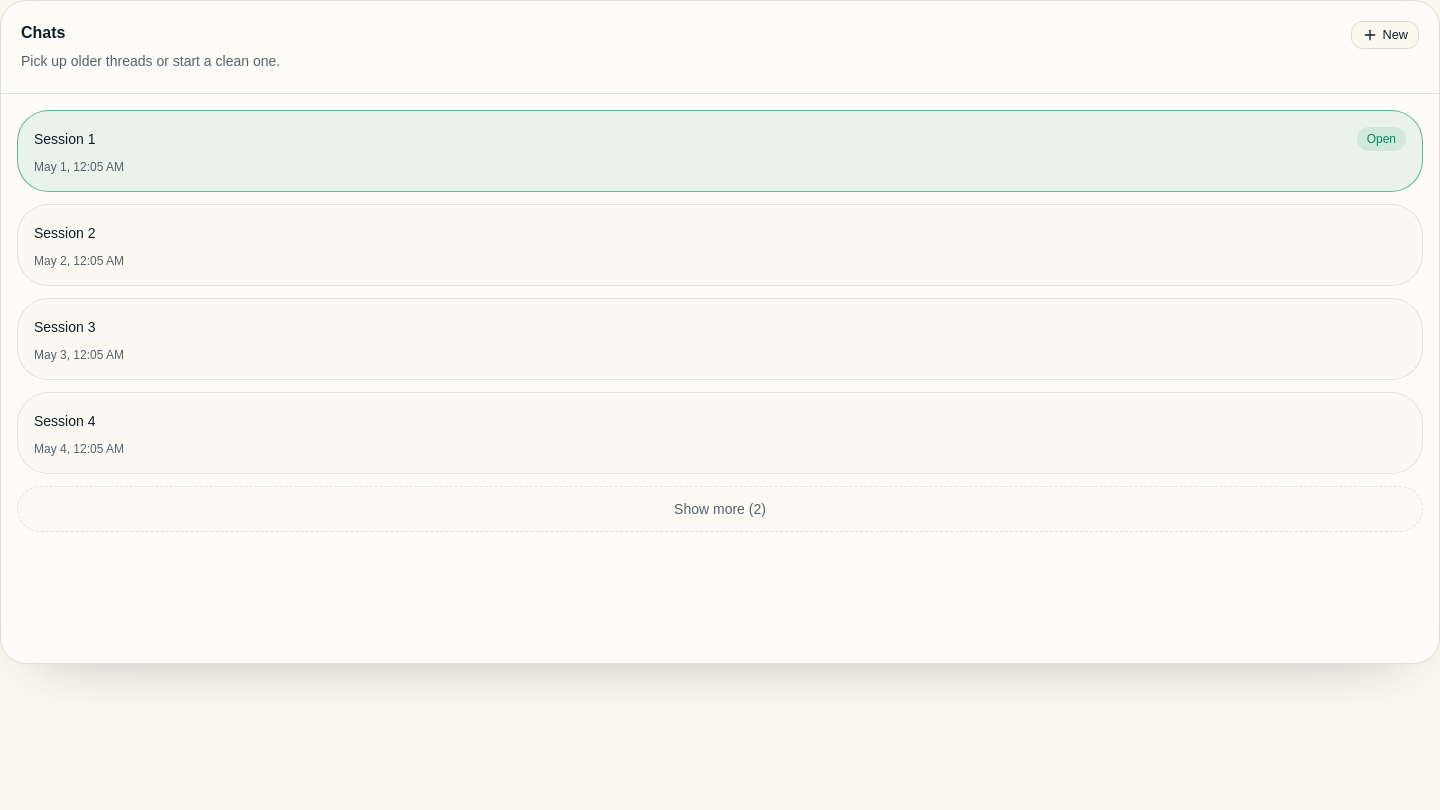
Scenario: SessionRail › shows only four chats by default and reveals the rest on demand
Expected: the text "Session 1" is shown, [34,127,96,151]
Expected: the text "Session 2" is shown, [34,221,96,245]
Click the button "Show more (2)": (720, 509) [17,486,1423,532]
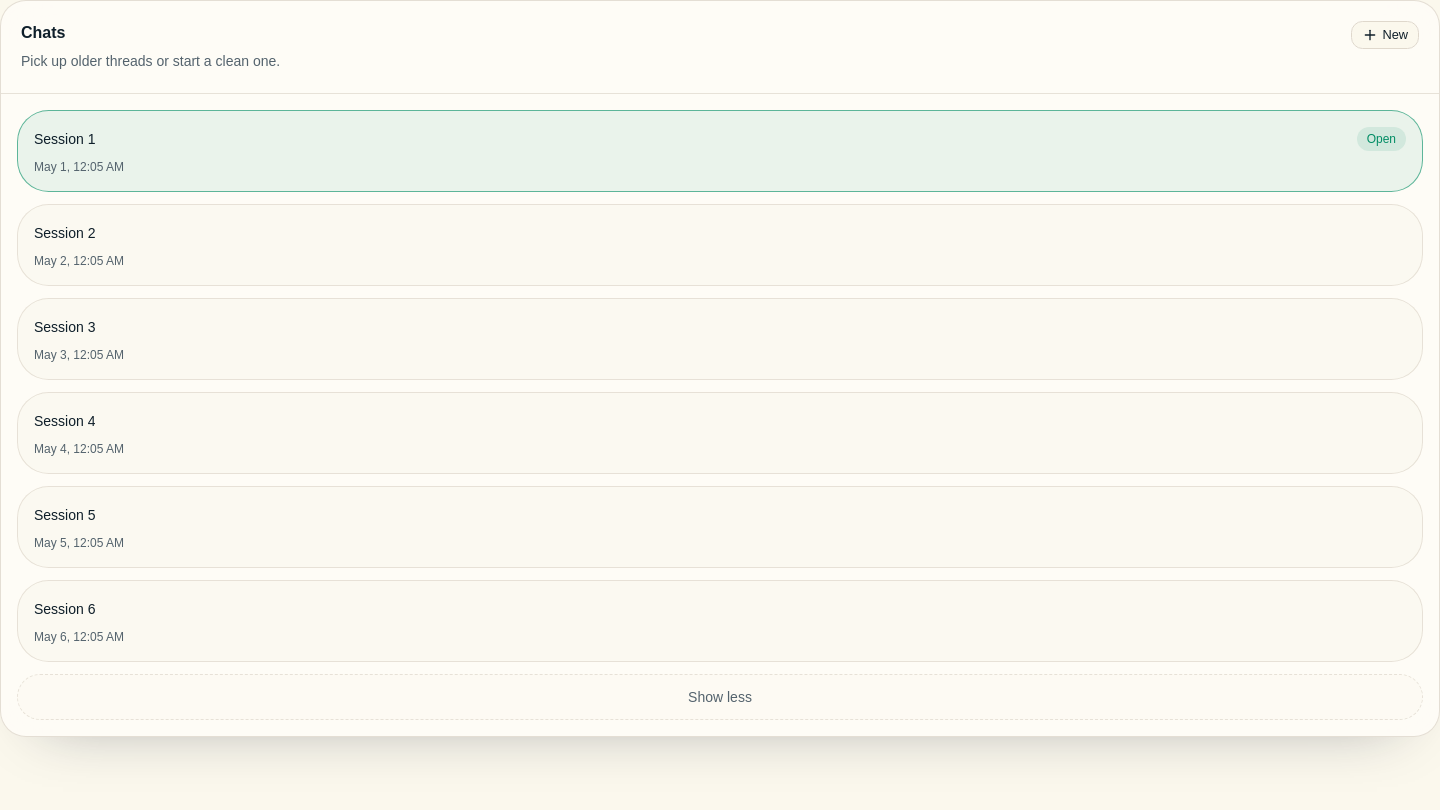
Expected: the text "Session 5" is shown, [34,503,96,527]
Expected: the text "Session 6" is shown, [34,597,96,621]
Expected: the button "Show less" is shown
Click the button "Show less": (720, 697) [17,674,1423,720]
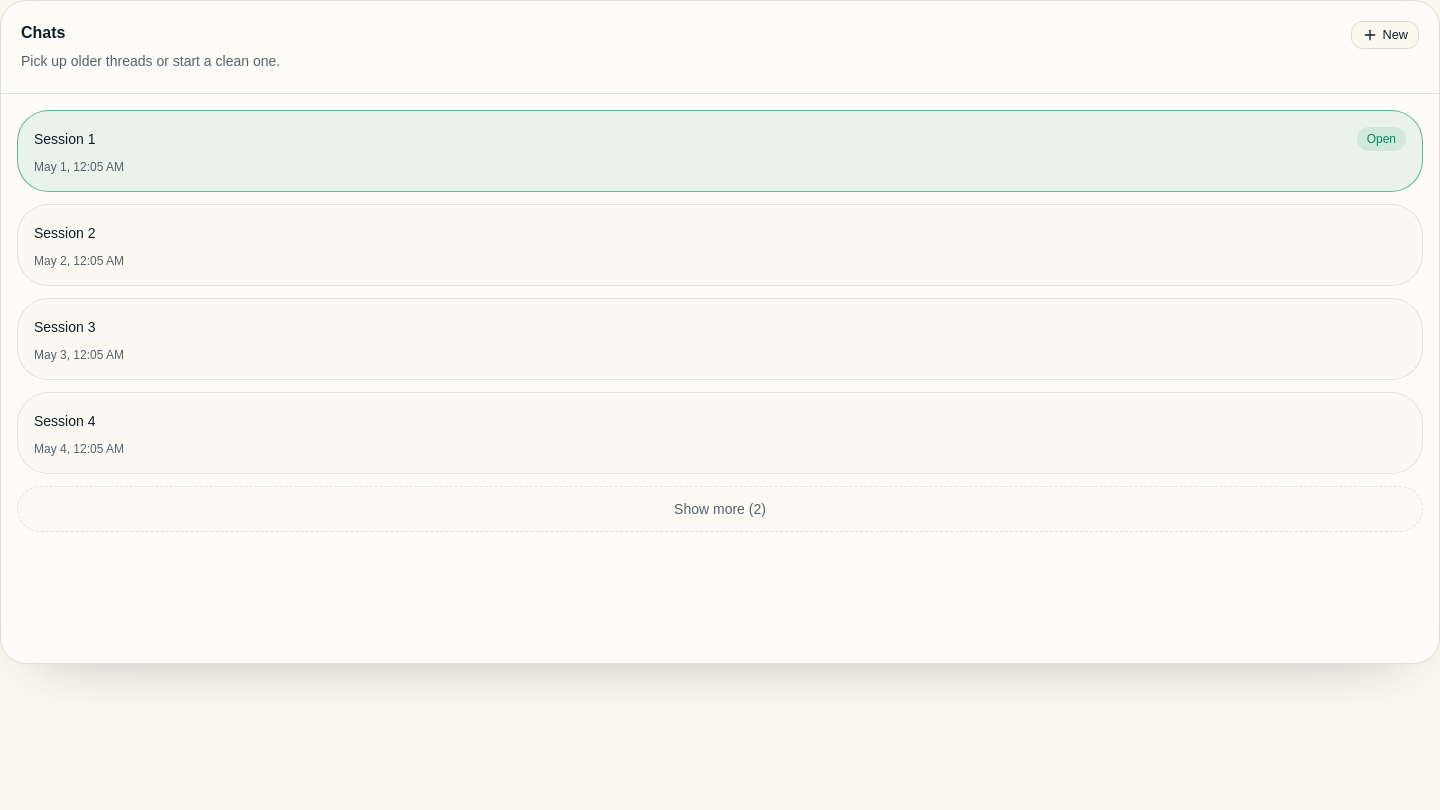
Expected: the button "Session 5" is gone
Expected: the button "Session 6" is gone
